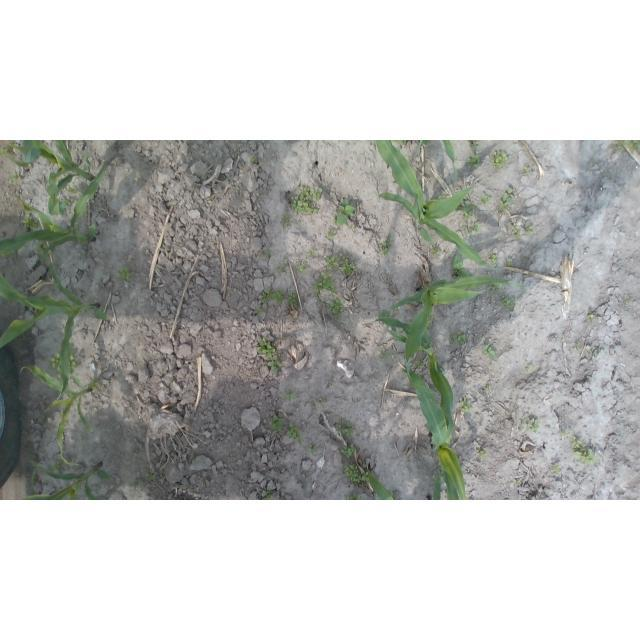Maize: (375, 140, 503, 270), (389, 275, 525, 397), (0, 261, 108, 402), (1, 153, 126, 264), (367, 317, 455, 452), (403, 369, 468, 500), (21, 366, 96, 466), (3, 140, 99, 216), (21, 460, 112, 501), (366, 459, 396, 500), (439, 140, 460, 189), (427, 469, 441, 500), (417, 140, 431, 148)
Weeds: (568, 434, 597, 466), (290, 187, 323, 215), (257, 339, 281, 372), (50, 353, 76, 374), (337, 198, 356, 226), (313, 272, 336, 294), (345, 465, 371, 483), (452, 254, 470, 279), (455, 201, 477, 220), (611, 140, 640, 154), (287, 422, 306, 442), (261, 290, 285, 305), (499, 188, 514, 211), (491, 151, 509, 169), (336, 421, 355, 438), (325, 300, 343, 317), (20, 213, 38, 229), (341, 257, 355, 276), (0, 140, 16, 156), (380, 238, 395, 255), (341, 444, 358, 459), (269, 415, 284, 431), (451, 331, 468, 345), (461, 222, 479, 234), (7, 171, 21, 186), (37, 242, 52, 256), (467, 153, 481, 168), (482, 345, 496, 360), (325, 255, 339, 269), (460, 397, 472, 413), (509, 224, 521, 239), (585, 344, 600, 356), (501, 296, 515, 308), (528, 418, 540, 432), (119, 268, 131, 281), (88, 379, 99, 391), (481, 193, 492, 204), (380, 350, 391, 361), (277, 262, 287, 274), (287, 292, 297, 304), (344, 493, 360, 500), (68, 184, 79, 194), (52, 460, 63, 470), (297, 262, 308, 272), (587, 311, 597, 322), (476, 447, 487, 457), (263, 490, 274, 500), (286, 391, 297, 401), (282, 215, 291, 227), (523, 225, 533, 235), (524, 363, 534, 373), (38, 415, 47, 425), (328, 229, 337, 239), (488, 256, 498, 265), (128, 482, 140, 489), (469, 140, 479, 148), (572, 343, 582, 351), (553, 463, 561, 473), (307, 445, 317, 453), (415, 361, 426, 368), (494, 283, 503, 291), (431, 248, 440, 256), (380, 311, 389, 319), (61, 200, 71, 207), (146, 474, 156, 481), (265, 250, 272, 260), (397, 140, 407, 146), (308, 249, 316, 256), (506, 258, 513, 266), (319, 398, 328, 404), (523, 167, 530, 174), (482, 385, 490, 391), (251, 157, 257, 164), (327, 382, 334, 388), (255, 308, 262, 314), (515, 479, 522, 485), (311, 401, 318, 407), (629, 297, 634, 304), (350, 224, 355, 230), (592, 157, 597, 163), (333, 219, 337, 224)
